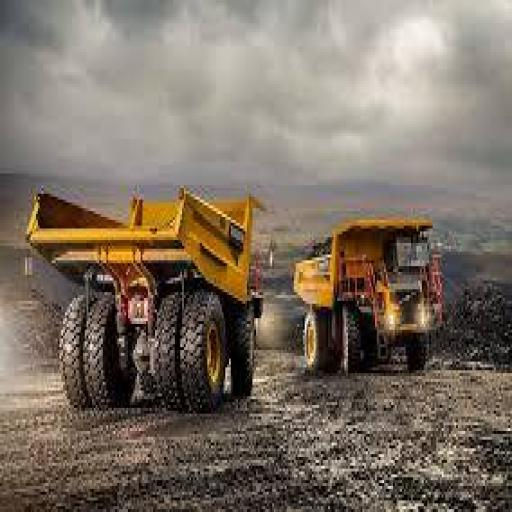Truck: (21, 166, 273, 422), (288, 202, 448, 394)
